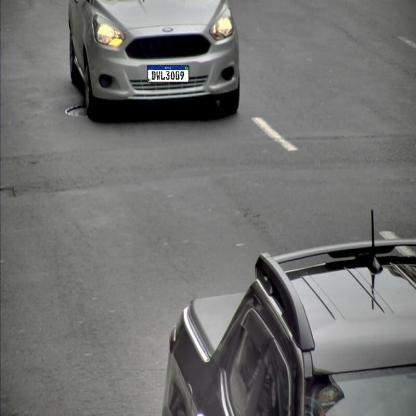PlacaM: (147, 65, 189, 83)
